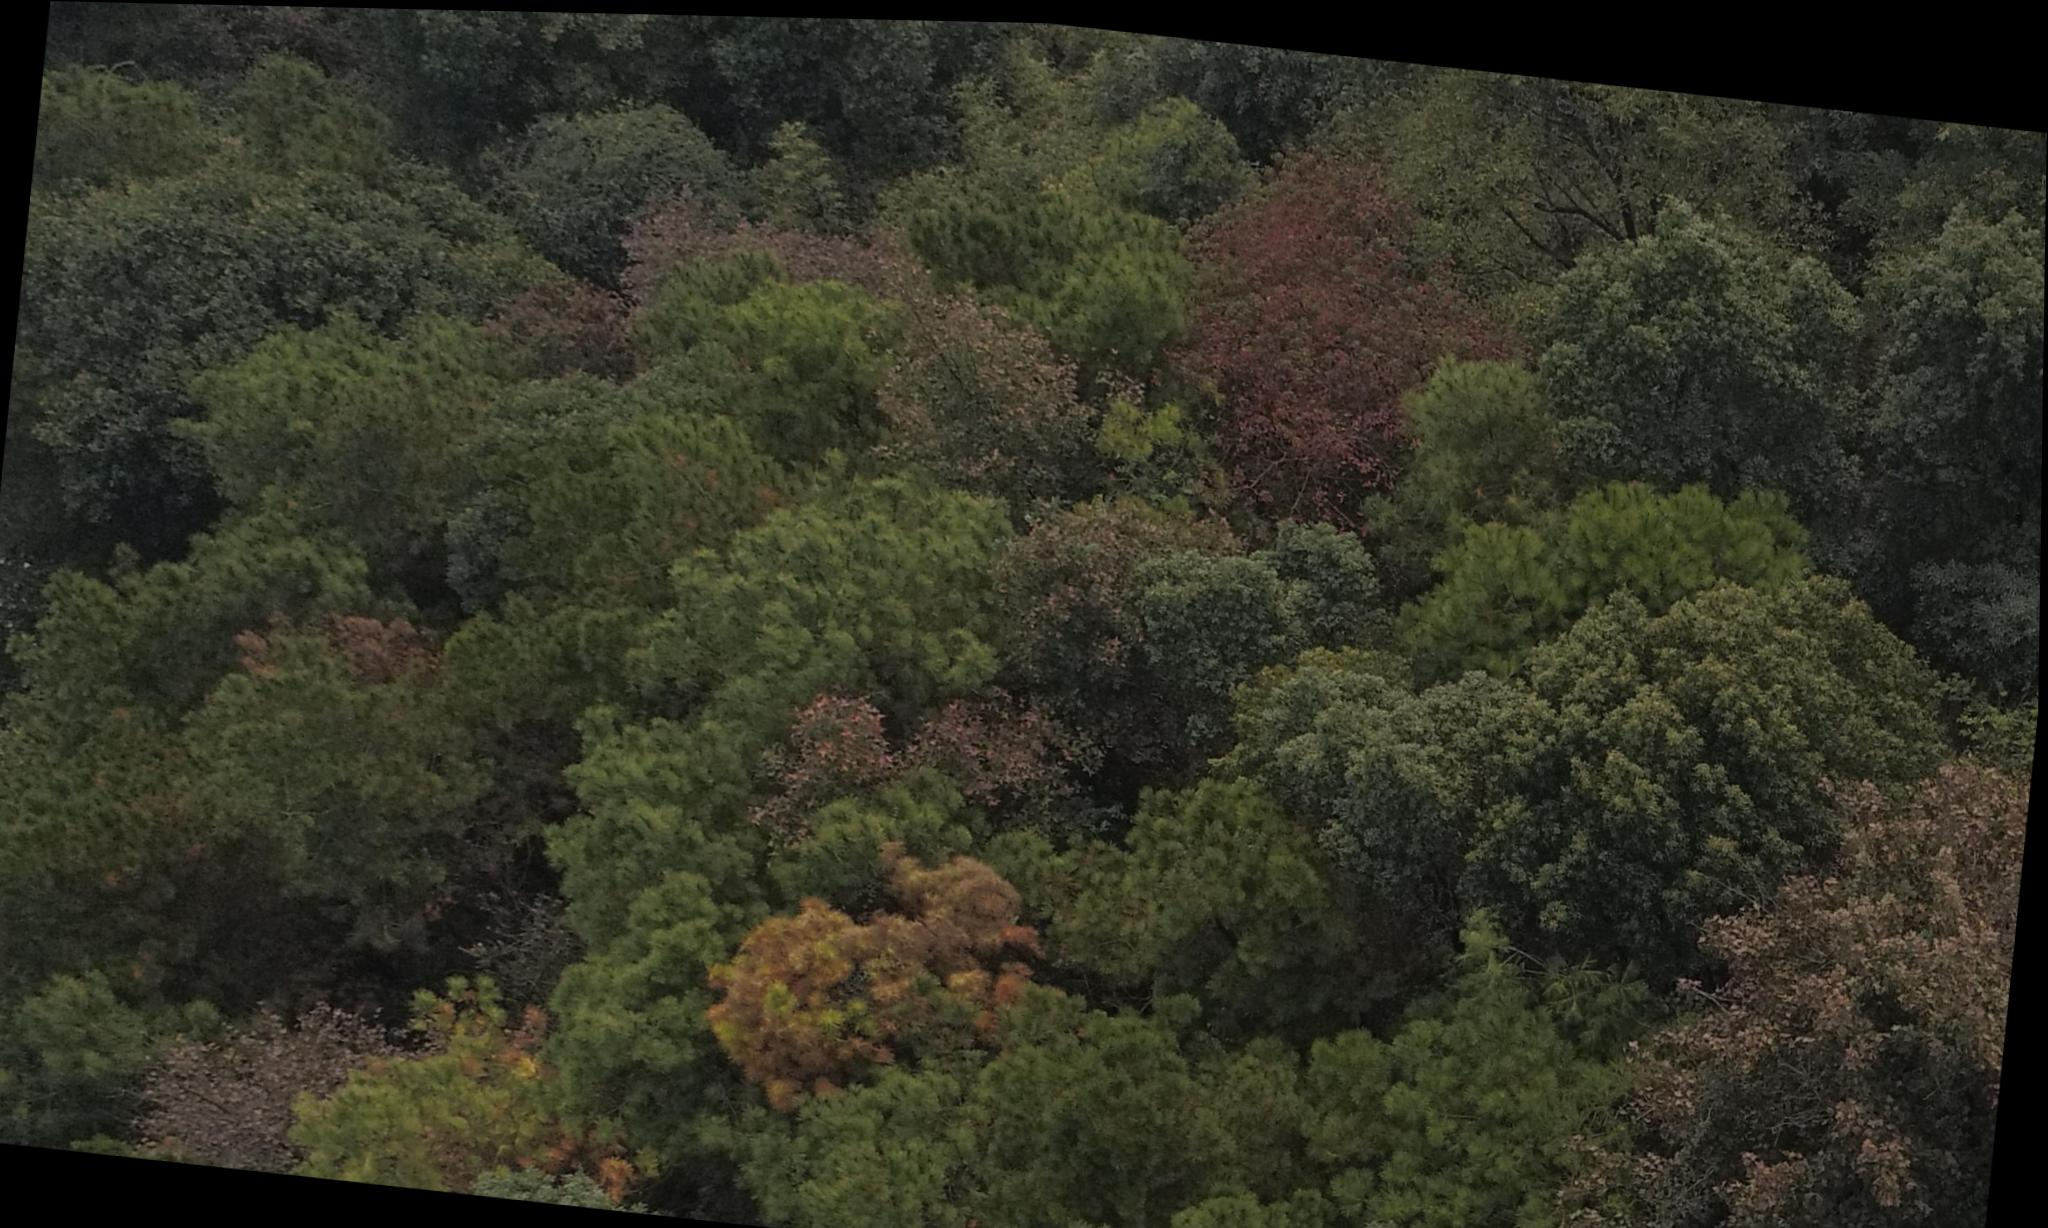heavy: (706, 800, 1066, 1134)
light: (449, 965, 659, 1196)
